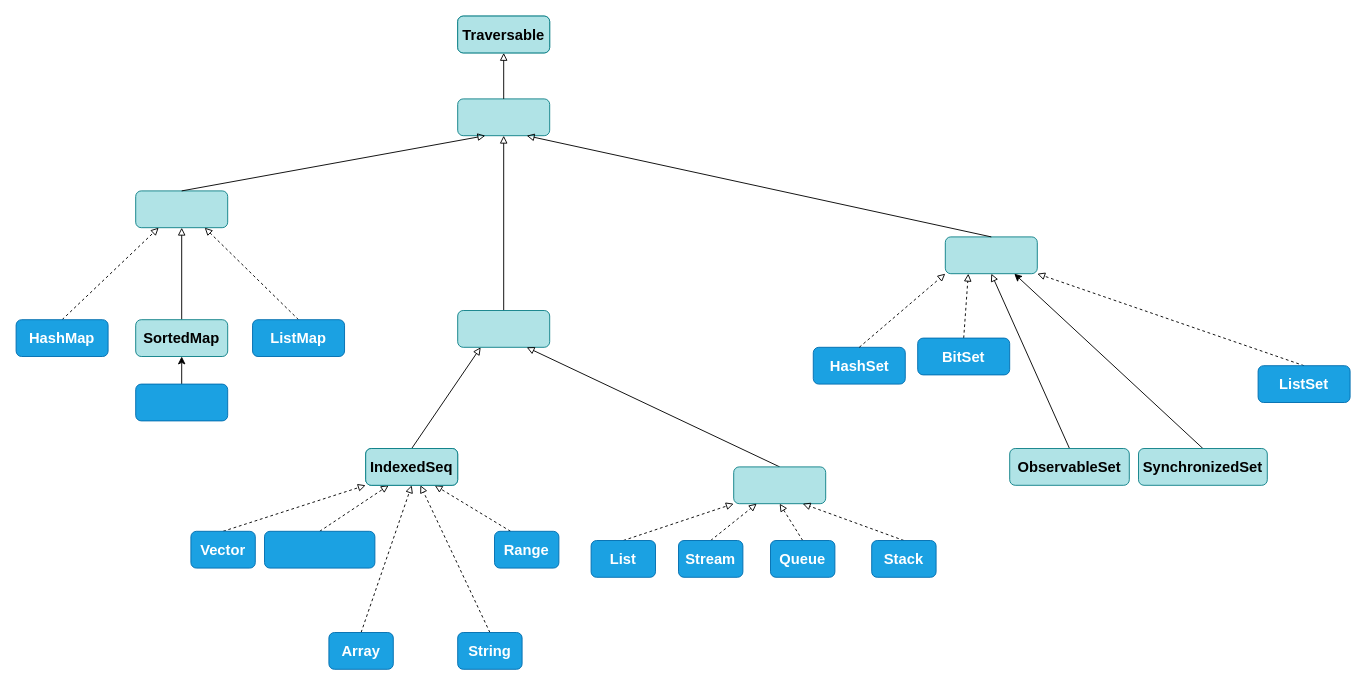
The diagram is 1366 pixels wide and 685 high, and some of its shapes have lost their labels. The box of each missing label's shape, as (x1, y1, x2, y2) in pixels:
Iterable: (457, 98, 550, 136)
LinearSeq: (733, 466, 826, 504)
Map: (135, 190, 228, 228)
NumericRange: (264, 530, 375, 568)
Seq: (457, 310, 550, 347)
Set: (944, 236, 1037, 274)
TreeMap: (135, 383, 228, 421)
